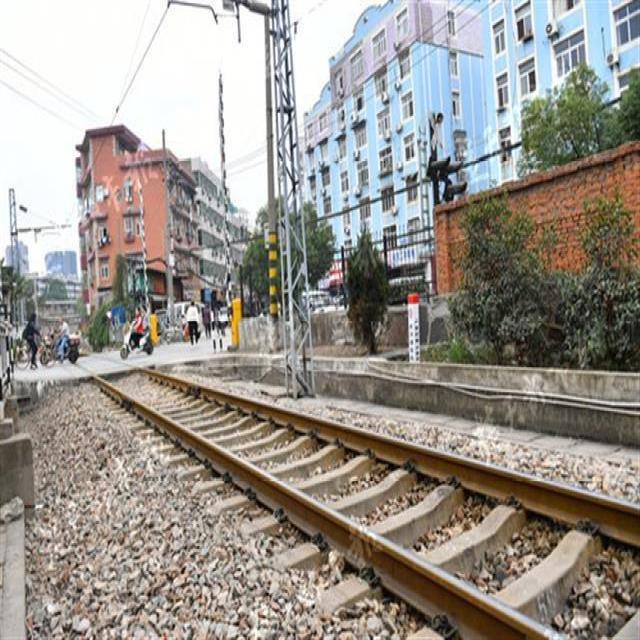people: (183, 301, 201, 352)
vehicle: (13, 343, 64, 372), (42, 333, 84, 367), (115, 326, 158, 356)
